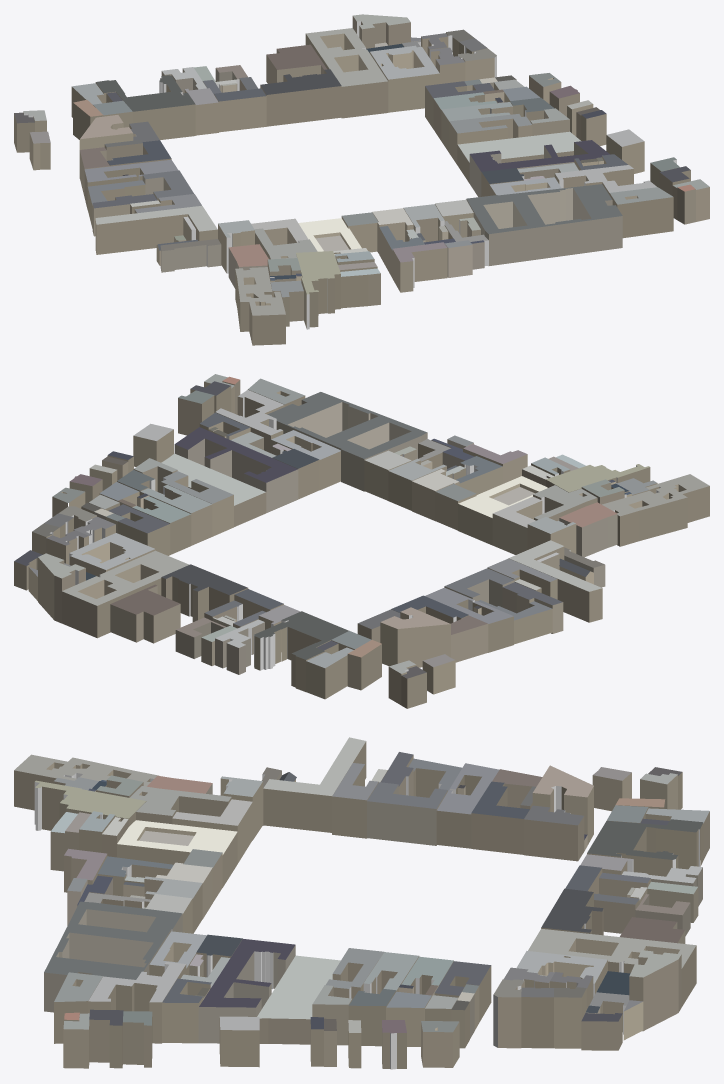
3 renders of one model, top to bottom at view 1: azimuth 30°, elevation 25°; view 2: azimuth 150°, elevation 25°; view 3: azimuth 270°, elevation 25°, orthographic. The views are drawn at different scales.
Parts seen in each view (by area): view 1: tuile; view 2: tuile; view 3: tuile.
Boxes of the visible parts, <box> form: tuile: <box>14,14,709,345</box>; tuile: <box>14,374,709,708</box>; tuile: <box>14,737,709,1069</box>.
Size of the model in its own units: 281 by 24.31 by 279.
